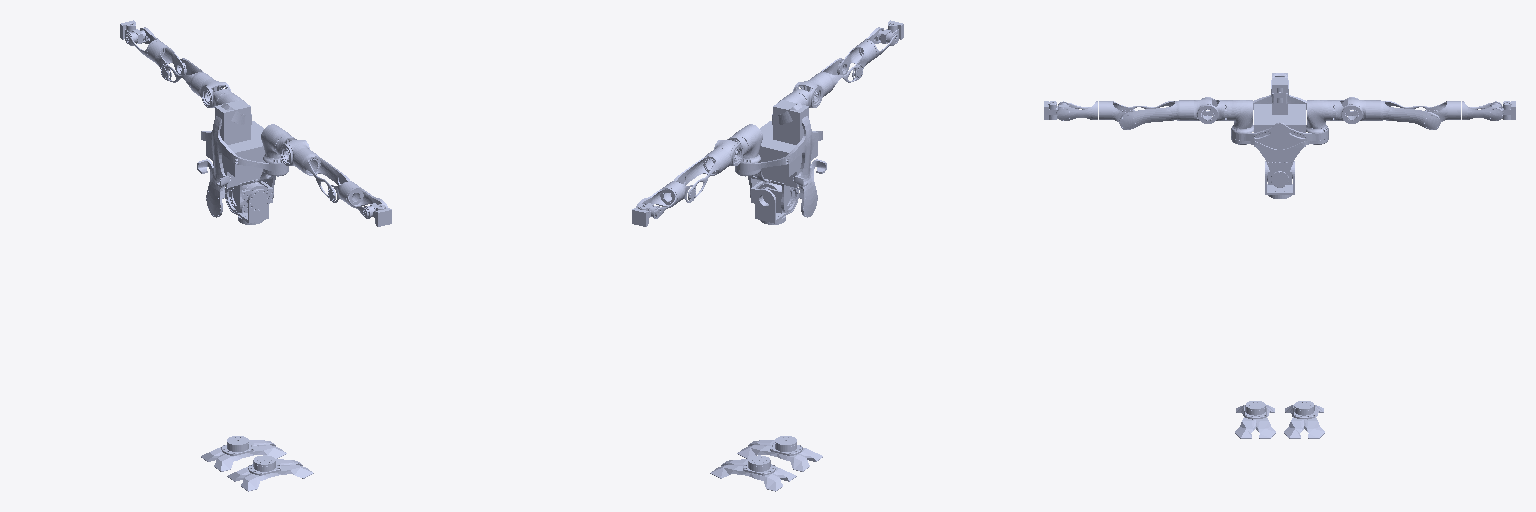
--- Facts derived from the render (not from the file) ---
Views: 3 orthographic renders of the robot side by side, from view 1: azimuth 30°, elevation 25°; view 2: azimuth 150°, elevation 25°; view 3: azimuth 270°, elevation 25°.
Model dyros_tocabi_description with 36 links and 35 joints (33 revolute, 2 fixed), rooted at Pelvis_Link, posed every joint at zero.
Links seen in each view (by area): view 1: Upperbody_Link, R_Foot_Link, L_Foot_Link, R_Armlink_Link, Waist1_Link, L_Elbow_Link, Waist2_Link, R_Shoulder3_Link, R_Shoulder1_Link; view 2: Upperbody_Link, L_Foot_Link, R_Foot_Link, L_Armlink_Link, Waist1_Link, R_Elbow_Link, Waist2_Link, L_Shoulder3_Link, L_Shoulder1_Link; view 3: Upperbody_Link, L_Foot_Link, R_Foot_Link, L_Armlink_Link, R_Armlink_Link, L_Shoulder1_Link, R_Shoulder1_Link, L_Shoulder3_Link, R_Shoulder3_Link, L_Forearm_Link, R_Forearm_Link.
Link boxes in pixels (<box>): Upperbody_Link: <box>197,100,288,217</box>; R_Foot_Link: <box>227,455,313,491</box>; L_Foot_Link: <box>201,436,286,471</box>; R_Armlink_Link: <box>303,155,352,201</box>; Waist1_Link: <box>236,189,268,224</box>; L_Elbow_Link: <box>147,41,184,80</box>; Waist2_Link: <box>229,181,272,213</box>; R_Shoulder3_Link: <box>283,140,317,172</box>; R_Shoulder1_Link: <box>261,124,289,158</box>; Upperbody_Link: <box>735,100,826,217</box>; L_Foot_Link: <box>710,455,796,491</box>; R_Foot_Link: <box>737,436,822,471</box>; L_Armlink_Link: <box>671,155,720,201</box>; Waist1_Link: <box>755,189,787,224</box>; R_Elbow_Link: <box>839,41,876,80</box>; Waist2_Link: <box>751,181,794,213</box>; L_Shoulder3_Link: <box>706,140,740,172</box>; L_Shoulder1_Link: <box>734,124,762,158</box>; Upperbody_Link: <box>1231,73,1328,187</box>; L_Foot_Link: <box>1284,401,1324,438</box>; R_Foot_Link: <box>1235,401,1275,438</box>; L_Armlink_Link: <box>1382,101,1440,129</box>; R_Armlink_Link: <box>1119,101,1177,129</box>; L_Shoulder1_Link: <box>1307,100,1332,128</box>; R_Shoulder1_Link: <box>1227,100,1252,128</box>; L_Shoulder3_Link: <box>1342,98,1381,120</box>; R_Shoulder3_Link: <box>1178,98,1217,120</box>; L_Forearm_Link: <box>1462,101,1503,120</box>; R_Forearm_Link: <box>1056,101,1097,120</box>.
Size in the robot's own frame: 0.366 by 1.98 by 1.56 metres.
Meshes: 33 distinct files referenced, 19 mesh visuals loaded (18 binary STL); not drawn: 15 (reference not matched to a file when rendering).

The robot description file, URDF, robot "dyros_tocabi_description":
<robot name="dyros_tocabi_description">
  <mujoco>
      <compiler meshdir="../meshes/" balanceinertia="true"/>
  </mujoco>
  <link
    name="Pelvis_Link">
    <inertial>
      <origin
        xyz="0.07809 0 0.03985"
        rpy="0 0 0"/>
      <mass
        value="12.19525" />
      <inertia
        ixx="0.101833182"
        ixy="-0.000070812"
        ixz="-0.003831096"
        iyy="0.072400662"
        iyz="0.000079272"
        izz="0.144478157" />
    </inertial>
    <visual>
      <origin
        xyz="0.11 0 0.02"
        rpy="0 0 0" />
      <geometry>
        <mesh
          filename="package://tocabi_description/meshes/Pelvis_link.STL" />
      </geometry>
      <material
        name="">
        <color
          rgba="0.79216 0.81961 0.93333 1" />
      </material>
    </visual>
    <collision>
      <origin
        xyz="0.11 0 0.039"
        rpy="0 0 0" />
      <geometry>
		<cylinder length="0.088" radius="0.045"/>
      </geometry>
    </collision>
	<collision>
      <origin
        xyz="0.11 0.1025 0.05"
        rpy="0 0 0" />
      <geometry>
		<cylinder length="0.11" radius="0.045"/>
      </geometry>
    </collision>
	<collision>
      <origin
        xyz="0.11 -0.1025 0.05"
        rpy="0 0 0" />
      <geometry>
		<cylinder length="0.11" radius="0.045"/>
      </geometry>
    </collision>
	<collision>
      <origin
        xyz="-0.0895 0 0.02"
        rpy="0 0 0" />
      <geometry>
		<box size="0.141 0.305 0.05"/>
      </geometry>
    </collision>
  </link>
  <link
    name="R_HipRoll_Link">
<inertial>
      <origin
        xyz="-0.06477 0 0.05149"
        rpy="0 0 0" />
      <mass
        value="2.679" />
      <inertia
        ixx="0.01821"
        ixy="-1.676E-07"
        ixz="-0.0007745"
        iyy="0.03121"
        iyz="-4.53E-09"
        izz="0.2928" />
    </inertial>
    <visual>
      <origin
        xyz="0 0 0"
        rpy="0 0 0" />
      <geometry>
        <mesh
          filename="package://tocabi_description/meshes/HipRoll_R_link.STL" />
      </geometry>
      <material
        name="">
        <color
          rgba="0.79216 0.81961 0.93333 1" />
      </material>
    </visual>
    <collision>
      <origin
        xyz="-0.1 0 0"
        rpy="0 1.570796 0" />
      <geometry>
        <cylinder length="0.08" radius="0.045"/>
      </geometry>
    </collision>
	<collision>
      <origin
        xyz="-0.016 0 0.085"
        rpy="0 0 0" />
      <geometry>
		<box size="0.154 0.1 0.02"/>
      </geometry>
    </collision>
	<collision>
      <origin
        xyz="0.055 0 0.0475"
        rpy="0 0 0" />
      <geometry>
		<box size="0.012 0.072 0.095"/>
      </geometry>
    </collision>
	<collision>
      <origin
        xyz="-0.087 0 0.0475"
        rpy="0 0 0" />
      <geometry>
		<box size="0.012 0.072 0.095"/>
      </geometry>
    </collision>
  </link>
  <joint
    name="R_HipYaw_Joint"
    type="revolute">
    <origin
      xyz="0.11 -0.1025 -0.1025"
      rpy="0 0 0" />
    <parent
      link="Pelvis_Link" />
    <child
      link="R_HipRoll_Link" />
    <axis
      xyz="0 0 1" />
	<limit
	  lower="-3.14"
	  upper="3.14"
      effort="500"
      velocity="100" />
    <dynamics
      damping="5" />
	  
  </joint>
  <link
    name="R_HipCenter_Link">
	<inertial>
      <origin
        xyz="-0.04801 -0.0022 2E-05"
        rpy="0 0 0" />
      <mass
        value="2.67" />
      <inertia
        ixx="0.3553"
        ixy="1.725E-08"
        ixz="-3.236E-06"
        iyy="0.009161"
        iyz="-4.778E-06"
        izz="0.00876" />
    </inertial>
    <visual>
      <origin
        xyz="0 0 0"
        rpy="0 0 0" />
      <geometry>
        <mesh
          filename="package://tocabi_description/meshes/HipCenter_R_Link.STL" />
      </geometry>
      <material
        name="">
        <color
          rgba="0.79216 0.81961 0.93333 1" />
      </material>
    </visual>
    <collision>
      <origin
        xyz="-0.0045 0 0"
        rpy="0 0 0" />
      <geometry>
		<box size="0.1045 0.06 0.095"/>
      </geometry>
    </collision>
  </link>
  <joint
    name="R_HipRoll_Joint"
    type="revolute">
    <origin
      xyz="0 0 0"
      rpy="1.38777878078145E-17 2.74984739744835E-16 4.49346870585602E-16" />
    <parent
      link="R_HipRoll_Link" />
    <child
      link="R_HipCenter_Link" />
    <axis
      xyz="1 0 0" />
	  <limit
	  lower="-3.14"
	  upper="3.14"
      effort="500"
      velocity="100" />
    <dynamics
      damping="5" />
  </joint>
  <link
    name="R_Thigh_Link">
    <inertial>
      <origin
        xyz="-0.00042 -0.00032 -0.18904"
        rpy="0 0 0" />
      <mass
        value="5.366" />
      <inertia
        ixx="0.2987"
        ixy="-4.284E-05"
        ixz="-0.000196"
        iyy="0.7088"
        iyz="0.002406"
        izz="0.00982" />
    </inertial>
    <visual>
      <origin
        xyz="0 0 0"
        rpy="0 0 0" />
      <geometry>
        <mesh
          filename="package://tocabi_description/meshes/Thigh_R_Link.STL" />
      </geometry>
      <material
        name="">
        <color
          rgba="0.79216 0.81961 0.93333 1" />
      </material>
    </visual>
    <collision>
      <origin
        xyz="0 0 -0.35"
        rpy="1.570796 0 0" />
      <geometry>
        <cylinder length="0.07763" radius="0.049"/>
      </geometry>
    </collision>
	<collision>
      <origin
        xyz="0 0 -0.1923"
        rpy="0 0 0" />
      <geometry>
        <cylinder length="0.2175" radius="0.06"/>
      </geometry>
    </collision>
  </link>
  <joint
    name="R_HipPitch_Joint"
    type="revolute">
    <origin
      xyz="0 0 0"
      rpy="-1.38777878078143E-17 -2.74984739744835E-16 -4.49346870585602E-16" />
    <parent
      link="R_HipCenter_Link" />
    <child
      link="R_Thigh_Link" />
    <axis
      xyz="0 1 0" />
	  <limit
	  lower="-3.14"
	  upper="3.14"
      effort="500"
      velocity="100" />
    <dynamics
      damping="5" />
  </joint>
  <link
    name="R_Knee_Link">
     <inertial>
      <origin
        xyz="0.00429 0.00214 -0.1428"
        rpy="0 0 0" />
      <mass
        value="3.883" />
      <inertia
        ixx="0.1506"
        ixy="-2.887E-05"
        ixz="-0.002607"
        iyy="0.5588"
        iyz="-0.001486"
        izz="0.007451" />
    </inertial>
    <visual>
      <origin
        xyz="0 0 0"
        rpy="0 0 0" />
      <geometry>
        <mesh
          filename="package://tocabi_description/meshes/Knee_R_Link.STL" />
      </geometry>
      <material
        name="">
        <color
          rgba="0.79216 0.81961 0.93333 1" />
      </material>
    </visual>
    <collision>
      <origin
        xyz="0 0 -0.175"
        rpy="0 0 0" />
      <geometry>
        <cylinder length="0.200" radius="0.06"/>
      </geometry>
    </collision>
  </link>
  <joint
    name="R_Knee_Joint"
    type="revolute">
    <origin
      xyz="0 0 -0.349999999999809"
      rpy="0 0 0" />
    <parent
      link="R_Thigh_Link" />
    <child
      link="R_Knee_Link" />
    <axis
      xyz="0 1 0" />
	  <limit
	  lower="-3.14"
	  upper="3.14"
      effort="500"
      velocity="100" />
    <dynamics
      damping="5" />
  </joint>
  <link
    name="R_AnkleCenter_Link">
<inertial>
      <origin
        xyz="-0.00419 -0.0018 -0.0003"
        rpy="0 0 0" />
      <mass
        value="2.51" />
      <inertia
        ixx="0.002857"
        ixy="-1.422E-07"
        ixz="2.222E-06"
        iyy="0.4135"
        iyz="4.611E-06"
        izz="0.003345" />
    </inertial>
    <visual>
      <origin
        xyz="0 0 0"
        rpy="0 0 0" />
      <geometry>
        <mesh
          filename="package://tocabi_description/meshes/AnkleCenter_R_Link.STL" />
      </geometry>
      <material
        name="">
        <color
          rgba="0.79216 0.81961 0.93333 1" />
      </material>
    </visual>
    <collision>
      <origin
        xyz="-0.0045 0 0"
        rpy="0 0 0" />
      <geometry>
		<box size="0.1045 0.06 0.095"/>
      </geometry>
    </collision>
  </link>
  <joint
    name="R_AnklePitch_Joint"
    type="revolute">
    <origin
      xyz="0 0 -0.35"
      rpy="-2.77555756156282E-17 -1.48042453629419E-16 5.37756273475549E-16" />
    <parent
      link="R_Knee_Link" />
    <child
      link="R_AnkleCenter_Link" />
    <axis
      xyz="0 1 0" />
	  <limit
	  lower="-3.14"
	  upper="3.14"
      effort="500"
      velocity="100" />
    <dynamics
      damping="5" />
  </joint>
  <link
    name="R_AnkleRoll_Link">
    <inertial>
      <origin
        xyz="-0.05196 0.00005 -0.0219"
        rpy="0 0 0" />
      <mass
        value="1.26426" />
      <inertia
        ixx="0.418697"
        ixy="1.5176E-08"
        ixz="-0.001095976"
        iyy="0.006211405"
        iyz="-5.435E-08"
        izz="0.008575514" />
    </inertial>
    <visual>
      <origin
        xyz="0 0 0"
        rpy="0 0 0" />
      <geometry>
        <mesh
          filename="package://tocabi_description/meshes/AnkleRoll_R_Link.STL" />
      </geometry>
      <material
        name="">
        <color
          rgba="0.79216 0.81961 0.93333 1" />
      </material>
    </visual>
    <collision>
      <origin
        xyz="-0.08875 0 0"
        rpy="0 -1.5707963 0" />
      <geometry>
		<cylinder length="0.0625" radius="0.045"/>
      </geometry>
    </collision>
  </link>
  <joint
    name="R_AnkleRoll_Joint"
    type="revolute">
    <origin
      xyz="0 0 0"
      rpy="0 0 0" />
    <parent
      link="R_AnkleCenter_Link" />
    <child
      link="R_AnkleRoll_Link" />
    <axis
      xyz="1 0 0" />
	  <limit
	  lower="-3.14"
	  upper="3.14"
      effort="500"
      velocity="100" />
    <dynamics
      damping="5" />
  </joint>
  <link
    name="R_Foot_Link">
    <inertial>
      <origin
        xyz="0.0162 0.00008 -0.1209"
        rpy="0 0 0" />
      <mass
        value="2.326" />
      <inertia
        ixx="0.003386409"
        ixy="1.1237E-05"
        ixz="-0.000526477"
        iyy="0.012600125"
        iyz="-1.976E-06"
        izz="0.014296" />
    </inertial>
    <visual>
      <origin
        xyz="0 0 0"
        rpy="0 0 0" />
      <geometry>
        <mesh
          filename="package://tocabi_description/meshes/Foot_Link.STL" />
      </geometry>
      <material
        name="">
        <color
          rgba="0.79216 0.81961 0.93333 1" />
      </material>
    </visual>
    <collision>
      <origin
        xyz="0.03 0 -0.145"
        rpy="0 0 0" />
      <geometry>
		<box size="0.3 0.17 0.027"/>
      </geometry>
    </collision>
	<collision>
      <origin
        xyz="-0.08875 0 0"
        rpy="0 -1.5707963 0" />
      <geometry>
		<cylinder length="0.0625" radius="0.045"/>
      </geometry>
    </collision>
  </link>
  <joint
    name="R_Foot_Joint"
    type="fixed">
    <origin
      xyz="0 0 0"
      rpy="0 0 0" />
    <parent
      link="R_AnkleRoll_Link" />
    <child
      link="R_Foot_Link" />
    <axis
      xyz="0 0 0" />
	  <limit
	  lower="-3.14"
	  upper="3.14"
      effort="500"
      velocity="100" />
    <dynamics
      damping="5" />
  </joint> 
  <link
    name="L_HipRoll_Link">
    <inertial>
      <origin
        xyz="-0.06477 0 0.05149"
        rpy="0 0 0" />
      <mass
        value="2.679" />
      <inertia
        ixx="0.01821"
        ixy="-1.676E-07"
        ixz="-0.0007745"
        iyy="0.03121"
        iyz="-4.53E-09"
        izz="0.2928" />
    </inertial>
    <visual>
      <origin
        xyz="0 0 0"
        rpy="0 0 0" />
      <geometry>
        <mesh
          filename="package://tocabi_description/meshes/HipRoll_L_Link.STL" />
      </geometry>
      <material
        name="">
        <color
          rgba="0.79216 0.81961 0.93333 1" />
      </material>
    </visual>
    <collision>
      <origin
        xyz="-0.1 0 0"
        rpy="0 1.570796 0" />
      <geometry>
        <cylinder length="0.08" radius="0.045"/>
      </geometry>
    </collision>
	<collision>
      <origin
        xyz="-0.016 0 0.085"
        rpy="0 0 0" />
      <geometry>
		<box size="0.154 0.1 0.02"/>
      </geometry>
    </collision>
	<collision>
      <origin
        xyz="0.055 0 0.0475"
        rpy="0 0 0" />
      <geometry>
		<box size="0.012 0.072 0.095"/>
      </geometry>
    </collision>
	<collision>
      <origin
        xyz="-0.087 0 0.0475"
        rpy="0 0 0" />
      <geometry>
		<box size="0.012 0.072 0.095"/>
      </geometry>
    </collision>
  </link>
  <joint
    name="L_HipYaw_Joint"
    type="revolute">
    <origin
      xyz="0.11 0.1025 -0.1025"
      rpy="0 0 0" />
    <parent
      link="Pelvis_Link" />
    <child
      link="L_HipRoll_Link" />
    <axis
      xyz="0 0 1" />
	  <limit
	  lower="-3.14"
	  upper="3.14"
      effort="500"
      velocity="100" />
    <dynamics
      damping="5" />
  </joint>

  <link
    name="L_HipCenter_Link">
   <inertial>
      <origin
        xyz="-0.04801 0.0022 2E-05"
        rpy="0 0 0" />
      <mass
        value="2.67" />
      <inertia
        ixx="0.3553"
        ixy="1.725E-08"
        ixz="-3.236E-06"
        iyy="0.009161"
        iyz="-4.778E-06"
        izz="0.00876" />
    </inertial>
    <visual>
      <origin
        xyz="0 0 0"
        rpy="0 0 0" />
      <geometry>
        <mesh
          filename="package://tocabi_description/meshes/HipCenter_L_Link.STL" />
      </geometry>
      <material
        name="">
        <color
          rgba="0.79216 0.81961 0.93333 1" />
      </material>
    </visual>    
    <collision>
      <origin
        xyz="-0.0045 0 0"
        rpy="0 0 0" />
      <geometry>
		<box size="0.1045 0.06 0.095"/>
      </geometry>
    </collision>
  </link>
  <joint
    name="L_HipRoll_Joint"
    type="revolute">
    <origin
      xyz="0 0 0"
      rpy="2.77555756156289E-17 1.88969769143558E-16 1.36928250674653E-16" />
    <parent
      link="L_HipRoll_Link" />
    <child
      link="L_HipCenter_Link" />
    <axis
      xyz="1 0 0" />
	  <limit
	  lower="-3.14"
	  upper="3.14"
      effort="500"
      velocity="100" />
    <dynamics
      damping="5" />
  </joint>
  <link
    name="L_Thigh_Link">
   <inertial>
      <origin
        xyz="-0.00042 0.00032 -0.18904"
        rpy="0 0 0" />
      <mass
        value="5.366" />
      <inertia
        ixx="0.2987"
        ixy="-4.284E-05"
        ixz="-0.000196"
        iyy="0.7088"
        iyz="0.002406"
        izz="0.00982" />
    </inertial>
    <visual>
      <origin
        xyz="0 0 0"
        rpy="0 0 0" />
      <geometry>
        <mesh
          filename="package://tocabi_description/meshes/Thigh_L_Link.STL" />
      </geometry>
      <material
        name="">
        <color
          rgba="0.79216 0.81961 0.93333 1" />
      </material>
    </visual>
    <collision>
      <origin
        xyz="0 0 -0.35"
        rpy="1.570796 0 0" />
      <geometry>
        <cylinder length="0.07763" radius="0.049"/>
      </geometry>
    </collision>
	<collision>
      <origin
        xyz="0 0 -0.1923"
        rpy="0 0 0" />
      <geometry>
        <cylinder length="0.2175" radius="0.06"/>
      </geometry>
    </collision>
  </link>
  <joint
    name="L_HipPitch_Joint"
    type="revolute">
    <origin
      xyz="0 0 0"
      rpy="-2.77555756156289E-17 -1.88969769143558E-16 -1.36928250674653E-16" />
    <parent
      link="L_HipCenter_Link" />
    <child
      link="L_Thigh_Link" />
    <axis
      xyz="0 1 0" />
	  <limit
	  lower="-3.14"
	  upper="3.14"
      effort="500"
      velocity="100" />
    <dynamics
      damping="5" />
  </joint>

  <link
    name="L_Knee_Link">
    <inertial>
      <origin
        xyz="0.00429 -0.00214 -0.1428"
        rpy="0 0 0" />
      <mass
        value="3.883" />
      <inertia
        ixx="0.1506"
        ixy="-2.887E-05"
        ixz="-0.002607"
        iyy="0.5588"
        iyz="-0.001486"
        izz="0.007451" />
    </inertial>
    <visual>
      <origin
        xyz="0 0 0"
        rpy="0 0 0" />
      <geometry>
        <mesh
          filename="package://tocabi_description/meshes/Knee_L_Link.STL" />
      </geometry>
      <material
        name="">
        <color
          rgba="0.79216 0.81961 0.93333 1" />
      </material>
    </visual>
    <collision>
      <origin
        xyz="0 0 -0.175"
        rpy="0 0 0" />
      <geometry>
        <cylinder length="0.200" radius="0.06"/>
      </geometry>
    </collision>
  </link>
  <joint
    name="L_Knee_Joint"
    type="revolute">
    <origin
      xyz="0 0 -0.350000000000191"
      rpy="0 0 0" />
    <parent
      link="L_Thigh_Link" />
    <child
      link="L_Knee_Link" />
    <axis
      xyz="0 1 0" />
	  <limit
	  lower="-3.14"
	  upper="3.14"
      effort="500"
      velocity="100" />
    <dynamics
      damping="5" />
  </joint>
  <link
    name="L_AnkleCenter_Link">
     <inertial>
      <origin
        xyz="-0.00419 0.0018 -0.0003"
        rpy="0 0 0" />
      <mass
        value="2.51" />
      <inertia
        ixx="0.002857"
        ixy="-1.422E-07"
        ixz="2.222E-06"
        iyy="0.4135"
        iyz="4.611E-06"
        izz="0.003345" />
    </inertial>
    <visual>
      <origin
        xyz="0 0 0"
        rpy="0 0 0" />
      <geometry>
        <mesh
          filename="package://tocabi_description/meshes/AnkleCenter_L_Link.STL" />
      </geometry>
      <material
        name="">
        <color
          rgba="0.79216 0.81961 0.93333 1" />
      </material>
    </visual>
    <collision>
      <origin
        xyz="-0.0045 0 0"
        rpy="0 0 0" />
      <geometry>
		<box size="0.1045 0.06 0.095"/>
      </geometry>
    </collision>
  </link>
  <joint
    name="L_AnklePitch_Joint"
    type="revolute">
    <origin
      xyz="0 0 -0.350000000051828"
      rpy="2.57102424745274E-31 -1.5978825624527E-16 1.89651504296143E-16" />
    <parent
      link="L_Knee_Link" />
    <child
      link="L_AnkleCenter_Link" />
    <axis
      xyz="0 1 0" />
	  <limit
	  lower="-3.14"
	  upper="3.14"
      effort="500"
      velocity="100" />
    <dynamics
      damping="5" />
  </joint>
  <link
    name="L_AnkleRoll_Link">
    <inertial>
      <origin
        xyz="-0.05196 0.00005 -0.0219"
        rpy="0 0 0" />
      <mass
        value="1.26426" />
      <inertia
        ixx="0.418697"
        ixy="1.5176E-08"
        ixz="-0.001095976"
        iyy="0.006211405"
        iyz="-5.435E-08"
        izz="0.008575514" />
    </inertial>
    <visual>
      <origin
        xyz="0 0 0"
        rpy="0 0 0" />
      <geometry>
        <mesh
          filename="package://tocabi_description/meshes/AnkleRoll_L_Link.STL" />
      </geometry>
      <material
        name="">
        <color
          rgba="0.79216 0.81961 0.93333 1" />
      </material>
    </visual>
    <collision>
      <origin
        xyz="-0.08875 0 0"
        rpy="0 -1.5707963 0" />
      <geometry>
		<cylinder length="0.0625" radius="0.045"/>
      </geometry>
    </collision>
  </link>
  <joint
    name="L_AnkleRoll_Joint"
    type="revolute">
    <origin
      xyz="0 0 0"
      rpy="-2.87406507911047E-31 1.5978825624527E-16 -1.89651504296143E-16" />
    <parent
      link="L_AnkleCenter_Link" />
    <child
      link="L_AnkleRoll_Link" />
    <axis
      xyz="1 0 0" />
	  <limit
	  lower="-3.14"
	  upper="3.14"
      effort="500"
      velocity="100" />
    <dynamics
      damping="5" />
  </joint>
  <link
    name="L_Foot_Link">
    <inertial>
      <origin
        xyz="0.0162 0.00008 -0.1209"
        rpy="0 0 0" />
      <mass
        value="2.326" />
      <inertia
        ixx="0.003386409"
        ixy="1.1237E-05"
        ixz="-0.000526477"
        iyy="0.012600125"
        iyz="-1.976E-06"
        izz="0.014296" />
    </inertial>
    <visual>
      <origin
        xyz="0 0 0"
        rpy="0 0 0" />
      <geometry>
        <mesh
          filename="package://tocabi_description/meshes/Foot_Link.STL" />
      </geometry>
      <material
        name="">
        <color
          rgba="0.79216 0.81961 0.93333 1" />
      </material>
    </visual>
    <collision>
      <origin
        xyz="0.03 0 -0.145"
        rpy="0 0 0" />
      <geometry>
		<box size="0.3 0.17 0.027"/>
      </geometry>
    </collision>
	<collision>
      <origin
        xyz="-0.08875 0 0"
        rpy="0 -1.5707963 0" />
      <geometry>
		<cylinder length="0.0625" radius="0.045"/>
      </geometry>
    </collision>
  </link>
  <joint
    name="L_Foot_Joint"
    type="fixed">
    <origin
      xyz="0 0 0"
      rpy="0 0 0" />
    <parent
      link="L_AnkleRoll_Link" />
    <child
      link="L_Foot_Link" />
    <axis
      xyz="0 0 0" />
	  <limit
	  lower="-3.14"
	  upper="3.14"
      effort="500"
      velocity="100" />
    <dynamics
      damping="5" />
  </joint>
  <link
    name="Waist1_Link">
    <inertial>
      <origin
        xyz="0 0 -0.03647"
        rpy="0 0 0" />
      <mass
        value="0.89722" />
      <inertia
        ixx="0.003744227"
        ixy="-0.000023489"
        ixz="0.000037149"
        iyy="0.002030963"
        iyz="-0.000424890"
        izz="1.007723743" />
    </inertial>
    <visual>
      <origin
        xyz="0 0 0"
        rpy="0 0 0" />
      <geometry>
        <mesh
          filename="package://tocabi_description/meshes/waist1.STL" />
      </geometry>
      <material
        name="">
        <color
          rgba="0.792156862745098 0.819607843137255 0.933333333333333 1" />
      </material>
    </visual>
	<visual>
      <origin
        xyz="0 0 -0.096"
        rpy="0 0 0" />
      <geometry>
        <cylinder length="0.02" radius="0.05"/>
      </geometry>
      <material
        name="">
        <color
          rgba="0.792156862745098 0.819607843137255 0.933333333333333 1" />
      </material>
    </visual>
	<collision>
      <origin
        xyz="0 0 -0.096"
        rpy="0 0 0" />
      <geometry>
		<cylinder length="0.02" radius="0.05"/>
      </geometry>	  
    </collision>	
	<collision>
      <origin
        xyz="0 0 -0.081"
        rpy="0 0 0" />
      <geometry>
        <box size="0.094 0.13 0.01"/>
      </geometry>	  
    </collision>
	<collision>
      <origin
        xyz="0 0.06 -0.0405"
        rpy="0 0 0" />
      <geometry>
        <box size="0.094 0.01 0.091"/>
      </geometry>	  
    </collision>
	<collision>
      <origin
        xyz="0 -0.06 -0.0405"
        rpy="0 0 0" />
      <geometry>
        <box size="0.094 0.01 0.091"/>
      </geometry>	  
    </collision>
	
  </link>
  <joint
    name="Waist1_Joint"
    type="revolute">
    <origin
      xyz="0.11 0 0.1979"
      rpy="0 0 0" />
    <parent
      link="Pelvis_Link" />
    <child
      link="Waist1_Link" />
    <axis
      xyz="0 0 1" />
    <limit
      lower="-2.094"
      upper="2.094"
      effort="500"
      velocity="100" />
	<dynamics
      damping="5" />
   </joint>
  <link
    name="Waist2_Link">
    <inertial>
      <origin
        xyz="-0.00029 0 0"
        rpy="0 0 0" />
      <mass
        value="3.752" />
      <inertia
        ixx="0.006020606"
        ixy="0.000011504"
        ixz="-0.000000053"
        iyy="1.011708561"
        iyz="0.000001147"
        izz="0.007561688" />
    </inertial>
    <visual>
      <origin
        xyz="0 0 0"
        rpy="0 0 0" />
      <geometry>
        <mesh
          filename="package://tocabi_description/meshes/waist2.STL" />
      </geometry>
      <material
        name="">
        <color
          rgba="0.792156862745098 0.819607843137255 0.933333333333333 1" />
      </material>
    </visual>
    
	<collision>
      <origin
        xyz="0 0 0"
        rpy="1.570796 0 0" />
      <geometry>
        <cylinder length="0.1" radius="0.055"/>
      </geometry>
    </collision>
	<collision>
      <origin
        xyz="0.02 0 0"
        rpy="0 0 0" />
      <geometry>
        <box size="0.1 0.1 0.06"/>
      </geometry>
    </collision>
	<collision>
      <origin
        xyz="-0.02 0 0"
        rpy="0 0 0" />
      <geometry>
        <box size="0.09 0.1 0.091"/>
      </geometry>
    </collision>
	
	
  </link>
  <joint
    name="Waist2_Joint"
    type="revolute">
    <origin
      xyz="0 0 0"
      rpy="0 0 0" />
    <parent
      link="Waist1_Link" />
    <child
      link="Waist2_Link" />
    <axis
      xyz="0 1 0" />
    <limit
      lower="-2.094"
      upper="2.094"
      effort="500"
      velocity="100" />
	<dynamics
      damping="5" />
  </joint>
<link
    name="Upperbody_Link">
    <inertial>
      <origin
        xyz="-0.04294 0 0.16798"
        rpy="0 0 0" />
      <mass
        value="18.13384" />
      <inertia
        ixx="1.270791438"
        ixy="0.000113985"
        ixz="0.029533458"
        iyy="0.238938452"
        iyz="-0.000028977"
        izz="0.179864207" />
    </inertial>
    <visual>
      <origin
        xyz="0 0 0"
        rpy="0 0 0" />
      <geometry>
        <mesh
          filename="package://tocabi_description/meshes/upperbody.STL" />
      </geometry>
      <material
        name="">
        <color
          rgba="0.792156862745098 0.819607843137255 0.933333333333333 1" />
      </material>
    </visual>
	<visual>
	  <origin
        xyz="-0.03 0 0.2"
        rpy="0 0 0" />
      <geometry>
        <box size="0.21 0.22 0.1"/>
      </geometry>
      <material
        name="">
        <color
          rgba="0.792156862745098 0.819607843137255 0.933333333333333 1" />
      </material>
    </visual>
	    <visual>
      <origin
        xyz="-0.03 0 0.115"
        rpy="0 0 0" />
      <geometry>
        <box size="0.21 0.11 0.07"/>
      </geometry>
      <material
        name="">
        <color
          rgba="0.792156862745098 0.819607843137255 0.933333333333333 1" />
      </material>
    </visual>
	    <visual>
      <origin
        xyz="-0.08 0 0.32"
        rpy="0 0 0" />
      <geometry>
        <box size="0.12 0.07 0.14"/>
      </geometry>
      <material
        name="">
        <color
          rgba="0.792156862745098 0.819607843137255 0.933333333333333 1" />
      </material>
    </visual>
    <collision>
      <origin
        xyz="-0.03 0 0.2"
        rpy="0 0 0" />
      <geometry>
        <box size="0.21 0.22 0.1"/>
      </geometry>
    </collision>
	<collision>
      <origin
        xyz="-0.03 0 0.115"
        rpy="0 0 0" />
      <geometry>
        <box size="0.21 0.11 0.07"/>
      </geometry>
    </collision>
	
	<collision>
      <origin
        xyz="-0.08 0 0.32"
        rpy="0 0 0" />
      <geometry>
        <box size="0.12 0.07 0.14"/>
      </geometry>
    </collision>
	<collision>
      <origin
        xyz="-0.115 0 0.0"
        rpy="0 1.570796 0" />
      <geometry>
        <cylinder length="0.09" radius="0.054"/>
      </geometry>
    </collision>
	<collision>
      <origin
        xyz="0.023 0.154 0.185"
        rpy="0 0 0" />
      <geometry>
        <cylinder length="0.07" radius="0.040"/>
      </geometry>
    </collision>
	<collision>
      <origin
        xyz="0.023 -0.154 0.185"
        rpy="0 0 0" />
      <geometry>
        <cylinder length="0.07" radius="0.040"/>
      </geometry>
    </collision>
  </link>
  <joint
    name="Upperbody_Joint"
    type="revolute">
    <origin
      xyz="0 0 0"
      rpy="0 0 0" />
    <parent
      link="Waist2_Link" />
    <child
      link="Upperbody_Link" />
    <axis
      xyz="-1 0 0" />
    <limit
      lower="-2.094"
      upper="2.094"
      effort="500"
      velocity="100" />
	<dynamics
      damping="5" />
  </joint>
  
  <link
    name="Neck_Link">
    <inertial>
      <origin
        xyz="0.0 0 -0.0023"
        rpy="0 0 0" />
      <mass
        value="0.248" />
      <inertia
        ixx="0.000058259"
        ixy="-0.000000076"
        ixz="0.000000268"
        iyy="0.000036489"
        iyz="-0.000001002"
        izz="0.000058237" />
    </inertial>
    <visual>
      <origin
        xyz="0 0 0"
        rpy="0 0 0" />
      <geometry>
        <mesh
          filename="package://tocabi_description/meshes/neck.STL" />
      </geometry>
      <material
        name="">
        <color
          rgba="0.792156862745098 0.819607843137255 0.933333333333333 1" />
      </material>
    </visual>
	<collision>
      <origin
        xyz="0 0 0.05"
        rpy="0 0 0" />
      <geometry>
        <cylinder length="0.043" radius="0.07"/>
      </geometry>
    </collision>
  </link>
  <joint
    name="Neck_Joint"
    type="revolute">
    <origin
      xyz="-0.036 0.0 0.3795"
      rpy="0 0 0" />
    <parent
      link="Upperbody_Link" />
    <child
      link="Neck_Link" />
    <axis
      xyz="0 0 1" />
    <limit
      lower="-1.54"
      upper="1.54"
      effort="500"
      velocity="100" />
	<dynamics
      damping="5" />
  </joint>

  <link
    name="Head_Link">
    <inertial>
      <origin
        xyz="-0.0036 0 0.1289"
        rpy="0 0 0" />
      <mass
        value="0.006332" />
      <inertia
        ixx="0.020045929"
        ixy="-0.000020568"
        ixz="-0.001338538"
        iyy="0.021593879"
        iyz="0.000156360"
        izz="0.014854138" />
    </inertial>
    <visual>
      <origin
        xyz="0 0 0"
        rpy="0 0 0" />
      <geometry>
        <mesh
          filename="package://tocabi_description/meshes/head.STL" />
      </geometry>
      <material
        name="">
        <color
          rgba="0.792156862745098 0.819607843137255 0.933333333333333 1" />
      </material>
    </visual>
	<collision>
      <origin
        xyz="0 0 0.05"
        rpy="0 0 0" />
      <geometry>
        <cylinder length="0.043" radius="0.07"/>
      </geometry>
    </collision>
  </link>
  <joint
    name="Head_Joint"
    type="revolute">
    <origin
      xyz="0.0 0.0 0.0275"
      rpy="0 0 0" />
    <parent
      link="Neck_Link" />
    <child
      link="Head_Link" />
    <axis
      xyz="0 1 0" />
    <limit
      lower="-1.54"
      upper="1.54"
      effort="500"
      velocity="100" />
	<dynamics
      damping="5" />
  </joint>
  
    <link
    name="L_Shoulder1_Link">
    <inertial>
      <origin
        xyz="-0.00003 0.00397 0.06029"
        rpy="0 0 0" />
      <mass
        value="1.6762" />
      <inertia
        ixx="0.001925606"
        ixy="0.000001433"
        ixz="0.000002313"
        iyy="0.001936576"
        iyz="0.000078962"
        izz="0.185330098" />
    </inertial>
    <visual>
      <origin
        xyz="0 0 0"
        rpy="0 0 0" />
      <geometry>
        <mesh
          filename="package://tocabi_description/meshes/L_shoulder1.STL" />
      </geometry>
      <material
        name="">
        <color
          rgba="0.792156862745098 0.819607843137255 0.933333333333333 1" />
      </material>
    </visual>
	<collision>
      <origin
        xyz="0 0 0.05"
        rpy="0 0 0" />
      <geometry>
        <cylinder length="0.11" radius="0.04"/>
      </geometry>
    </collision>
  </link>
  <joint
    name="L_Shoulder1_Joint"
    type="revolute">
    <origin
      xyz="0.023 0.154 0.2275"
      rpy="0 0 0" />
    <parent
      link="Upperbody_Link" />
    <child
      link="L_Shoulder1_Link" />
    <axis
      xyz="0 0 1" />
    <limit
      lower="-2.09"
      upper="1.54"
      effort="500"
      velocity="100" />
	<dynamics
      damping="5" />
  </joint>

  <link
    name="L_Shoulder2_Link">
    <inertial>
      <origin
        xyz="0.00107 0.0491 -0.00001"
        rpy="0 0 0" />
      <mass
        value="0.4016" />
      <inertia
        ixx="0.000989903"
        ixy="0.000028237"
        ixz="-0.000000465"
        iyy="0.184275853"
        iyz="0.000000133"
        izz="0.001067575" />
    </inertial>
    <visual>
      <origin
        xyz="0 0 0"
        rpy="0 0 0" />
      <geometry>
        <mesh
          filename="package://tocabi_description/meshes/L_shoulder2.STL" />
      </geometry>
      <material
        name="">
        <color
          rgba="0.792156862745098 0.819607843137255 0.933333333333333 1" />
      </material>
    </visual>
	<collision>
      <origin
        xyz="0 0.040 0"
        rpy="1.570796 0 0" />
      <geometry>
        <cylinder length="0.05" radius="0.04"/>
      </geometry>
    </collision>
  </link>
  <joint
    name="L_Shoulder2_Joint"
    type="revolute">
    <origin
      xyz="0 0.0341 0.065"
      rpy="0 0 0" />
    <parent
      link="L_Shoulder1_Link" />
    <child
      link="L_Shoulder2_Link" />
    <axis
      xyz="0 1 0" />
    <limit
      lower="-3.14159"
      upper="3.14159"
      effort="500"
      velocity="100" />
	<dynamics
      damping="5" />
  </joint>
  <link
    name="L_Shoulder3_Link">
    <inertial>
      <origin
        xyz="0.00262 0.04826 0.00023"
        rpy="0 0 0" />
      <mass
        value="2.90141" />
      <inertia
        ixx="0.192093159"
        ixy="-0.000365084"
        ixz="-0.000002746"
        iyy="0.002493784"
        iyz="-0.000023821"
        izz="0.008296854" />
    </inertial>
    <visual>
      <origin
        xyz="0 0 0"
        rpy="0 0 0" />
      <geometry>
        <mesh
          filename="package://tocabi_description/meshes/L_shoulder3.STL" />
      </geometry>
      <material
        name="">
        <color
          rgba="0.792156862745098 0.819607843137255 0.933333333333333 1" />
      </material>
    </visual>
	<collision>
      <origin
        xyz="0 0.06 0"
        rpy="1.570796 0 0" />
      <geometry>
        <cylinder length="0.12" radius="0.04"/>
      </geometry>
    </collision>
  </link>
  <joint
    name="L_Shoulder3_Joint"
    type="revolute">
    <origin
      xyz="0 0.115 0"
      rpy="0 0 0" />
    <parent
      link="L_Shoulder2_Link" />
    <child
      link="L_Shoulder3_Link" />
    <axis
      xyz="-1 0 0" />
    <limit
      lower="-1.9199"
      upper="1.9199"
      effort="500"
      velocity="100" />
	<dynamics
      damping="5" />
  </joint>

  <link
    name="L_Armlink_Link">
    <inertial>
      <origin
        xyz="-0.01896 0.11642 -0.0119"
        rpy="0 0 0" />
      <mass
        value="0.58517" />
      <inertia
        ixx="0.002878609"
        ixy="0.000302586"
        ixz="-0.000036001"
        iyy="0.184381923"
        iyz="0.000398377"
        izz="0.003117058" />
    </inertial>
    <visual>
      <origin
        xyz="0 0 0"
        rpy="0 0 0" />
      <geometry>
        <mesh
          filename="package://tocabi_description/meshes/L_arm.STL" />
      </geometry>
      <material
        name="">
        <color
          rgba="0.792156862745098 0.819607843137255 0.933333333333333 1" />
      </material>
    </visual>
	<collision>
      <origin
        xyz="0 0.08 0"
        rpy="1.570796 0 0" />
      <geometry>
        <cylinder length="0.16" radius="0.04"/>
      </geometry>
    </collision>
  </link>
  <joint
    name="L_Armlink_Joint"
    type="revolute">
    <origin
      xyz="0 0.1281 0"
      rpy="0 0 0" />
    <parent
      link="L_Shoulder3_Link" />
    <child
      link="L_Armlink_Link" />
    <axis
      xyz="0 1 0" />
    <limit
      lower="-3.14159"
      upper="3.14159"
      effort="500"
      velocity="100" />
	<dynamics
      damping="5" />
  </joint>
  <link
    name="L_Elbow_Link">
    <inertial>
      <origin
        xyz="-0.00136 0.05256 0.01764"
        rpy="0 0 0" />
      <mass
        value="2.06511" />
      <inertia
        ixx="0.055865466"
        ixy="0.000151764"
        ixz="0.000055158"
        iyy="0.001895543"
        iyz="0.001530917"
        izz="0.005958821" />
    </inertial>
    <visual>
      <origin
        xyz="0 0 0"
        rpy="0 0 0" />
      <geometry>
        <mesh
          filename="package://tocabi_description/meshes/L_elbow.STL" />
      </geometry>
      <material
        name="">
        <color
          rgba="0.792156862745098 0.819607843137255 0.933333333333333 1" />
      </material>
    </visual>
<collision>
      <origin
        xyz="0 0.08 0.0325"
        rpy="1.570796 0 0" />
      <geometry>
        <cylinder length="0.08" radius="0.04"/>
      </geometry>
    </collision>
	<collision>
      <origin
        xyz="0 0 0"
        rpy="0 1.570796 0" />
      <geometry>
        <cylinder length="0.08" radius="0.04"/>
      </geometry>
    </collision>
  </link>
  <joint
    name="L_Elbow_Joint"
    type="revolute">
    <origin
      xyz="0 0.207 -0.0325"
      rpy="0 0 0" />
    <parent
      link="L_Armlink_Link" />
    <child
      link="L_Elbow_Link" />
    <axis
      xyz="1 0 0" />
    <limit
      lower="-3.14159"
      upper="2.8"
      effort="500"
      velocity="100" />
	<dynamics
      damping="5" />
  </joint>
  <link
    name="L_Forearm_Link">
    <inertial>
      <origin
        xyz="-0.01426 0.0767 0.00033"
        rpy="0 0 0" />
      <mass
        value="0.35234" />
      <inertia
        ixx="0.001053636"
        ixy="0.000084568"
        ixz="0.000022117"
        iyy="0.049889479"
        iyz="0.000019539"
        izz="0.001266418" />
    </inertial>
    <visual>
      <origin
        xyz="0 0 0"
        rpy="0 0 0" />
      <geometry>
        <mesh
          filename="package://tocabi_description/meshes/L_forearm.STL" />
      </geometry>
      <material
        name="">
        <color
          rgba="0.792156862745098 0.819607843137255 0.933333333333333 1" />
      </material>
    </visual>
		<collision>
      <origin
        xyz="0 0.05 0"
        rpy="1.570796 0 0" />
      <geometry>
        <cylinder length="0.1" radius="0.04"/>
      </geometry>
    </collision>
	<collision>
      <origin
        xyz="0 0.1451 0"
        rpy="0 1.570796 0" />
      <geometry>
        <cylinder length="0.08" radius="0.025"/>
      </geometry>
    </collision>
  </link>
  <joint
    name="L_Forearm_Joint"
    type="revolute">
    <origin
      xyz="0 0.1244 0.0325"
      rpy="0 0 0" />
    <parent
      link="L_Elbow_Link" />
    <child
      link="L_Forearm_Link" />
    <axis
      xyz="0 1 0" />
    <limit
      lower="-3.14159"
      upper="3.14159"
      effort="500"
      velocity="100" />
	<dynamics
      damping="5" />
  </joint>
  <link
    name="L_Wrist1_Link">
    <inertial>
      <origin
        xyz="-0.00158 0.02153 0.00003"
        rpy="0 0 0" />
      <mass
        value="0.70923" />
      <inertia
        ixx="0.015205197"
        ixy="0.000024218"
        ixz="-0.000000263"
        iyy="0.000396376"
        iyz="0.000000688"
        izz="0.000683187" />
    </inertial>
    <visual>
      <origin
        xyz="0 0 0"
        rpy="0 0 0" />
      <geometry>
        <mesh
          filename="package://tocabi_description/meshes/L_wrist1.STL" />
      </geometry>
      <material
        name="">
        <color
          rgba="0.792156862745098 0.819607843137255 0.933333333333333 1" />
      </material>
    </visual>
    	<collision>
      <origin
        xyz="0 0.046 0"
        rpy="0 0 0" />
      <geometry>
        <cylinder length="0.06" radius="0.02"/>
      </geometry>
    </collision>
  </link>
  <joint
    name="L_Wrist1_Joint"
    type="revolute">
    <origin
      xyz="0 0.1451 0"
      rpy="0 0 0" />
    <parent
      link="L_Forearm_Link" />
    <child
      link="L_Wrist1_Link" />
    <axis
      xyz="1 0 0" />
    <limit
      lower="-3.14159"
      upper="3.14159"
      effort="500"
      velocity="100" />
	<dynamics
      damping="5" />
  </joint>
  <link
    name="L_Wrist2_Link">
    <inertial>
      <origin
        xyz="0.00063 0.0636 -0.07"
        rpy="0 0 0" />
      <mass
        value="0.6" />
      <inertia
        ixx="0.000865450"
        ixy="0"
        ixz="0"
        iyy="0.000696917"
        iyz="0"
        izz="0.015377823" />
    </inertial>
    <visual>
      <origin
        xyz="0 0 -0.025"
        rpy="0 0 0" />
      <geometry>
        <box size="0.06 0.06 0.02"/>
      </geometry>
      <material
        name="">
        <color
          rgba="0.792156862745098 0.819607843137255 0.933333333333333 1" />
      </material>
    </visual>
	<collision>
      <origin
        xyz="0 0 -0.025"
        rpy="0 0 0" />
      <geometry>
        <box size="0.06 0.06 0.02"/>
      </geometry>
    </collision>
  </link>
  <joint
    name="L_Wrist2_Joint"
    type="revolute">
    <origin
      xyz="0 0.046 0"
      rpy="1.5708 3.1415 0" />
    <parent
      link="L_Wrist1_Link" />
    <child
      link="L_Wrist2_Link" />
    <axis
      xyz="0 1 0" />
    <limit
      lower="-2.094"
      upper="2.094"
      effort="500"
      velocity="100" />
	<dynamics
      damping="5" />
  </joint>

  <link
    name="R_Shoulder1_Link">
    <inertial>
      <origin
        xyz="-0.00003 -0.00397 0.06029"
        rpy="0 0 0" />
      <mass
        value="1.6762" />
      <inertia
        ixx="0.001925606"
        ixy="-0.000001433"
        ixz="0.000002313"
        iyy="0.001936576"
        iyz="-0.000078962"
        izz="0.185330098" />
    </inertial>
    <visual>
      <origin
        xyz="0 0 0"
        rpy="0 0 0" />
      <geometry>
        <mesh
          filename="package://tocabi_description/meshes/R_shoulder1.STL" />
      </geometry>
      <material
        name="">
        <color
          rgba="0.792156862745098 0.819607843137255 0.933333333333333 1" />
      </material>
    </visual>
    <collision>
      <origin
        xyz="0 0 0.05"
        rpy="0 0 0" />
      <geometry>
        <cylinder length="0.11" radius="0.04"/>
      </geometry>
    </collision>
  </link>
  <joint
    name="R_Shoulder1_Joint"
    type="revolute">
    <origin
      xyz="0.023 -0.154 0.2275"
      rpy="0 0 0" />
    <parent
      link="Upperbody_Link" />
    <child
      link="R_Shoulder1_Link" />
    <axis
      xyz="0 0 1" />
    <limit
      lower="-1.54"
      upper="2.09"
      effort="500"
      velocity="100" />
	<dynamics
      damping="5" />
  </joint>
  <link
    name="R_Shoulder2_Link">
    <inertial>
      <origin
        xyz="0.00107 -0.0491 -0.00001"
        rpy="0 0 0" />
      <mass
        value="0.4016" />
      <inertia
        ixx="0.000989903"
        ixy="-0.000028237"
        ixz="-0.000000465"
        iyy="0.184275853"
        iyz="-0.000000133"
        izz="0.001067575" />
    </inertial>
    <visual>
      <origin
        xyz="0 0 0"
        rpy="0 0 0" />
      <geometry>
        <mesh
          filename="package://tocabi_description/meshes/R_shoulder2.STL" />
      </geometry>
      <material
        name="">
        <color
          rgba="0.792156862745098 0.819607843137255 0.933333333333333 1" />
      </material>
    </visual>
	<collision>
      <origin
        xyz="0 -0.040 0"
        rpy="1.570796 0 0" />
      <geometry>
        <cylinder length="0.05" radius="0.04"/>
      </geometry>
    </collision>
  </link>
  <joint
    name="R_Shoulder2_Joint"
    type="revolute">
    <origin
      xyz="0 -0.0341 0.065"
      rpy="0 0 0" />
    <parent
      link="R_Shoulder1_Link" />
    <child
      link="R_Shoulder2_Link" />
    <axis
      xyz="0 -1 0" />
    <limit
      lower="-3.14159"
      upper="3.14159"
      effort="500"
      velocity="100" />
	<dynamics
      damping="5" />
  </joint>
  <link
    name="R_Shoulder3_Link">
    <inertial>
      <origin
        xyz="0.00262 -0.04826 0.00023"
        rpy="0 0 0" />
      <mass
        value="2.90141" />
      <inertia
        ixx="0.192093159"
        ixy="0.000365084"
        ixz="-0.000002746"
        iyy="0.002493784"
        iyz="0.000023821"
        izz="0.008296854" />
    </inertial>
    <visual>
      <origin
        xyz="0 0 0"
        rpy="0 0 0" />
      <geometry>
        <mesh
          filename="package://tocabi_description/meshes/R_shoulder3.STL" />
      </geometry>
      <material
        name="">
        <color
          rgba="0.792156862745098 0.819607843137255 0.933333333333333 1" />
      </material>
    </visual>
    
	<collision>
      <origin
        xyz="0 -0.06 0"
        rpy="1.570796 0 0" />
      <geometry>
        <cylinder length="0.12" radius="0.04"/>
      </geometry>
    </collision>
  </link>
  <joint
    name="R_Shoulder3_Joint"
    type="revolute">
    <origin
      xyz="0 -0.115 0"
      rpy="0 0 0" />
    <parent
      link="R_Shoulder2_Link" />
    <child
      link="R_Shoulder3_Link" />
    <axis
      xyz="-1 0 0" />
    <limit
      lower="-1.9199"
      upper="1.9199"
      effort="500"
      velocity="100" />
	<dynamics
      damping="5" />
  </joint>
  <link
    name="R_Armlink_Link">
    <inertial>
      <origin
        xyz="-0.01896 -0.11642 -0.0119"
        rpy="0 0 0" />
      <mass
        value="0.58517" />
      <inertia
        ixx="0.002878609"
        ixy="-0.000302586"
        ixz="-0.000036001"
        iyy="0.184381923"
        iyz="-0.000398377"
        izz="0.003117058" />
    </inertial>
    <visual>
      <origin
        xyz="0 0 0"
        rpy="0 0 0" />
      <geometry>
        <mesh
          filename="package://tocabi_description/meshes/R_arm.STL" />
      </geometry>
      <material
        name="">
        <color
          rgba="0.792156862745098 0.819607843137255 0.933333333333333 1" />
      </material>
    </visual>
	<collision>
      <origin
        xyz="0 -0.08 0"
        rpy="1.570796 0 0" />
      <geometry>
        <cylinder length="0.16" radius="0.04"/>
      </geometry>
    </collision>
  </link>
  <joint
    name="R_Armlink_Joint"
    type="revolute">
    <origin
      xyz="0 -0.1281 0"
      rpy="0 0 0" />
    <parent
      link="R_Shoulder3_Link" />
    <child
      link="R_Armlink_Link" />
    <axis
      xyz="0 -1 0" />
    <limit
      lower="-3.14159"
      upper="3.14159"
      effort="500"
      velocity="100" />
	<dynamics
      damping="5" />
  </joint>
  <link
    name="R_Elbow_Link">
    <inertial>
      <origin
        xyz="-0.00136 -0.05256 0.01764"
        rpy="0 0 0" />
      <mass
        value="2.06511" />
      <inertia
        ixx="0.055865466"
        ixy="-0.000151764"
        ixz="0.000055158"
        iyy="0.001895543"
        iyz="-0.001530917"
        izz="0.005958821" />
    </inertial>
    <visual>
      <origin
        xyz="0 0 0"
        rpy="0 0 0" />
      <geometry>
        <mesh
          filename="package://tocabi_description/meshes/R_elbow.STL" />
      </geometry>
      <material
        name="">
        <color
          rgba="0.792156862745098 0.819607843137255 0.933333333333333 1" />
      </material>
    </visual>
	
	<collision>
      <origin
        xyz="0 -0.08 0.0325"
        rpy="1.570796 0 0" />
      <geometry>
        <cylinder length="0.08" radius="0.04"/>
      </geometry>
    </collision>
	<collision>
      <origin
        xyz="0 0 0"
        rpy="0 1.570796 0" />
      <geometry>
        <cylinder length="0.08" radius="0.04"/>
      </geometry>
    </collision>
	
  </link>
  <joint
    name="R_Elbow_Joint"
    type="revolute">
    <origin
      xyz="0 -0.207 -0.0325"
      rpy="0 0 0" />
    <parent
      link="R_Armlink_Link" />
    <child
      link="R_Elbow_Link" />
    <axis
      xyz="1 0 0" />
    <limit
      lower="-2.967"
      upper="3.14159"
      effort="500"
      velocity="100" />
	<dynamics
      damping="5" />
  </joint>
  <link
    name="R_Forearm_Link">
    <inertial>
      <origin
        xyz="-0.01426 -0.0767 0.00033"
        rpy="0 0 0" />
      <mass
        value="0.35234" />
      <inertia
        ixx="0.001053636"
        ixy="-0.000084568"
        ixz="0.000022117"
        iyy="0.049889479"
        iyz="-0.000019539"
        izz="0.001266418" />
    </inertial>
    <visual>
      <origin
        xyz="0 0 0"
        rpy="0 0 0" />
      <geometry>
        <mesh
          filename="package://tocabi_description/meshes/R_forearm.STL" />
      </geometry>
      <material
        name="">
        <color
          rgba="0.792156862745098 0.819607843137255 0.933333333333333 1" />
      </material>
    </visual>
	<collision>
      <origin
        xyz="0 -0.05 0"
        rpy="1.570796 0 0" />
      <geometry>
        <cylinder length="0.1" radius="0.04"/>
      </geometry>
    </collision>
	<collision>
      <origin
        xyz="0 -0.1451 0"
        rpy="0 1.570796 0" />
      <geometry>
        <cylinder length="0.08" radius="0.025"/>
      </geometry>
    </collision>
  </link>
  <joint
    name="R_Forearm_Joint"
    type="revolute">
    <origin
      xyz="0 -0.1244 0.0325"
      rpy="0 0 0" />
    <parent
      link="R_Elbow_Link" />
    <child
      link="R_Forearm_Link" />
    <axis
      xyz="0 -1 0" />
    <limit
      lower="-3.14159"
      upper="3.14159"
      effort="500"
      velocity="100" />
	<dynamics
      damping="5" />
  </joint>
  <link
    name="R_Wrist1_Link">
    <inertial>
      <origin
        xyz="-0.00158 -0.02153 0.00003"
        rpy="0 0 0" />
      <mass
        value="0.70923" />
      <inertia
        ixx="0.015205197"
        ixy="-0.000024218"
        ixz="-0.000000263"
        iyy="0.000396376"
        iyz="-0.000000688"
        izz="0.000683187" />
    </inertial>
    <visual>
      <origin
        xyz="0 0 0"
        rpy="0 0 0" />
      <geometry>
        <mesh
          filename="package://tocabi_description/meshes/R_wrist1.STL" />
      </geometry>
      <material
        name="">
        <color
          rgba="0.792156862745098 0.819607843137255 0.933333333333333 1" />
      </material>
    </visual>
	<collision>
      <origin
        xyz="0 -0.046 0"
        rpy="0 0 0" />
      <geometry>
        <cylinder length="0.06" radius="0.02"/>
      </geometry>
    </collision>
  </link>
  <joint
    name="R_Wrist1_Joint"
    type="revolute">
    <origin
      xyz="0 -0.1451 0"
      rpy="0 0 0" />
    <parent
      link="R_Forearm_Link" />
    <child
      link="R_Wrist1_Link" />
    <axis
      xyz="1 0 0" />
    <limit
      lower="-3.14159"
      upper="3.14159"
      effort="500"
      velocity="100" />
	<dynamics
      damping="5" />
  </joint>
  <link
    name="R_Wrist2_Link">
    <inertial>
      <origin
        xyz="0.00063 -0.0636 -0.1"
        rpy="0 0 0" />
      <mass
        value="1.4" />
      <inertia
        ixx="0.000865450"
        ixy="0"
        ixz="0"
        iyy="0.000696917"
        iyz="0"
        izz="0.015377823" />
    </inertial>
    <visual>
      <origin
        xyz="0 0 -0.025"
        rpy="0 0 0" />
      <geometry>
        <box size="0.06 0.06 0.02"/>
      </geometry>
      <material
        name="">
        <color
          rgba="0.792156862745098 0.819607843137255 0.933333333333333 1" />
      </material>
    </visual>
    <collision>
      <origin
        xyz="0 0 -0.025"
        rpy="0 0 0" />
      <geometry>
        <box size="0.06 0.06 0.02"/>
      </geometry>
    </collision>
  </link>
  <joint
    name="R_Wrist2_Joint"
    type="revolute">
    <origin
      xyz="0 -0.046 0"
      rpy="-1.5708 3.1415 0" />
    <parent
      link="R_Wrist1_Link" />
    <child
      link="R_Wrist2_Link" />
    <axis
      xyz="0 -1 0" />
    <limit
      lower="-2.094"
      upper="2.094"
      effort="500"
      velocity="100" />
	<dynamics
      damping="5" />
  </joint>  

  
  
</robot>
